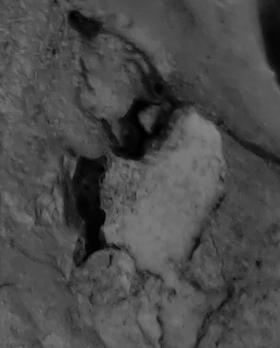crack: (0, 1, 279, 348)
